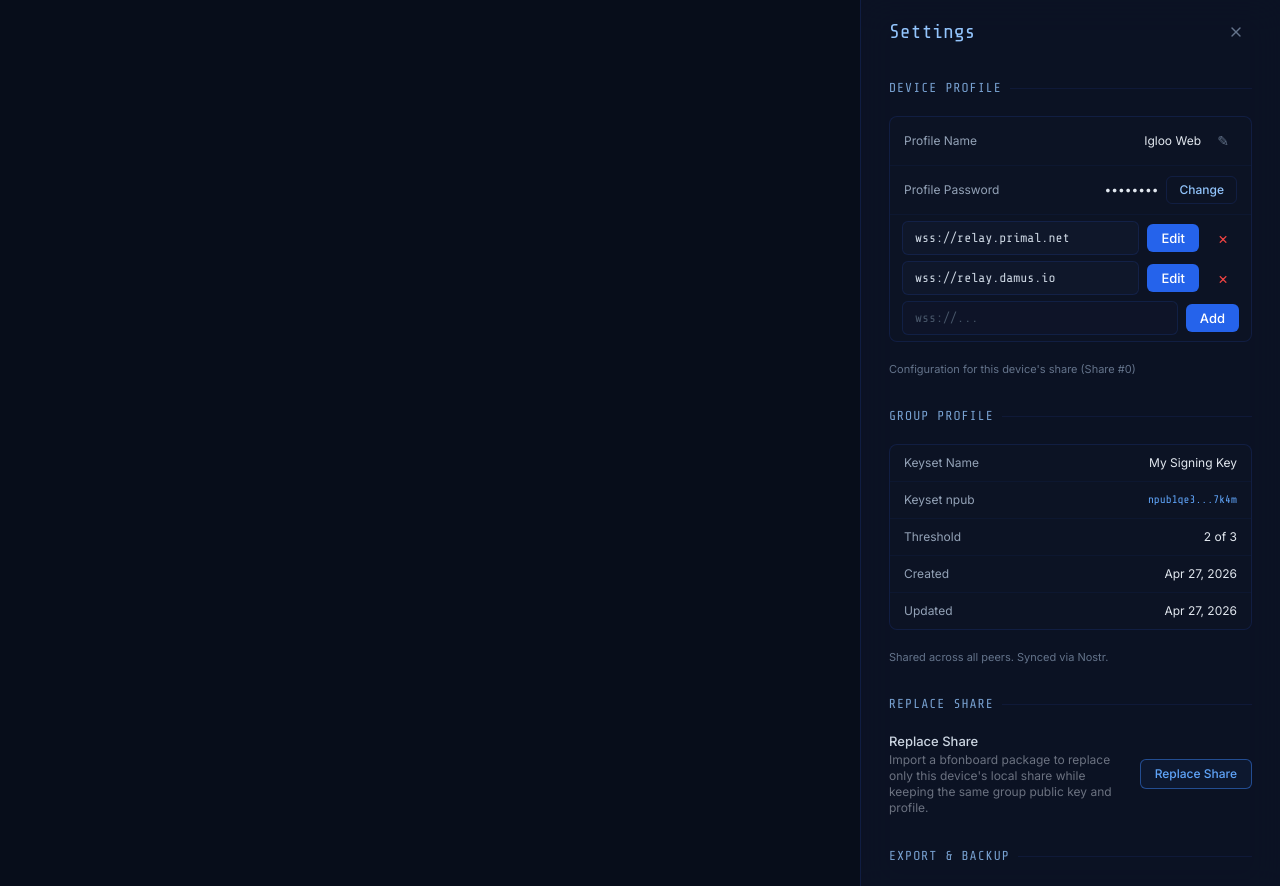
it: SettingsSidebar — Relay List (VAL-SETTINGS-003..006, 023) › Edit rejects an invalid URL with the canonical inline error (VAL-SETTINGS-004)
This screenshot has width=1280, height=886.
Click the button with aria-label "Edit wss://relay.damus.io" at (1173, 278), box [1147,264,1199,292]
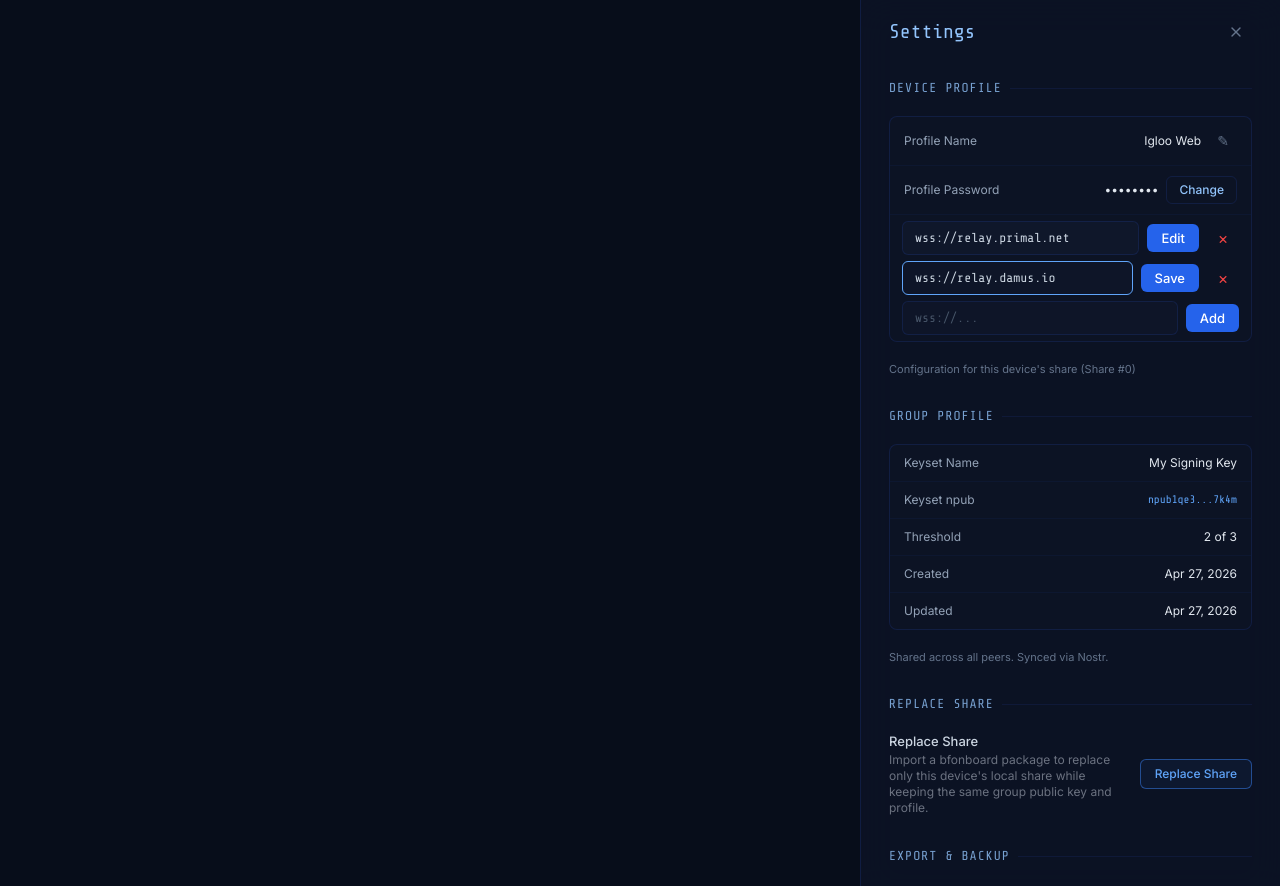
Replace the text in the field named "Edit wss://relay.damus.io" with "ws://no.lol" at (1017, 278), box [902,261,1133,295]
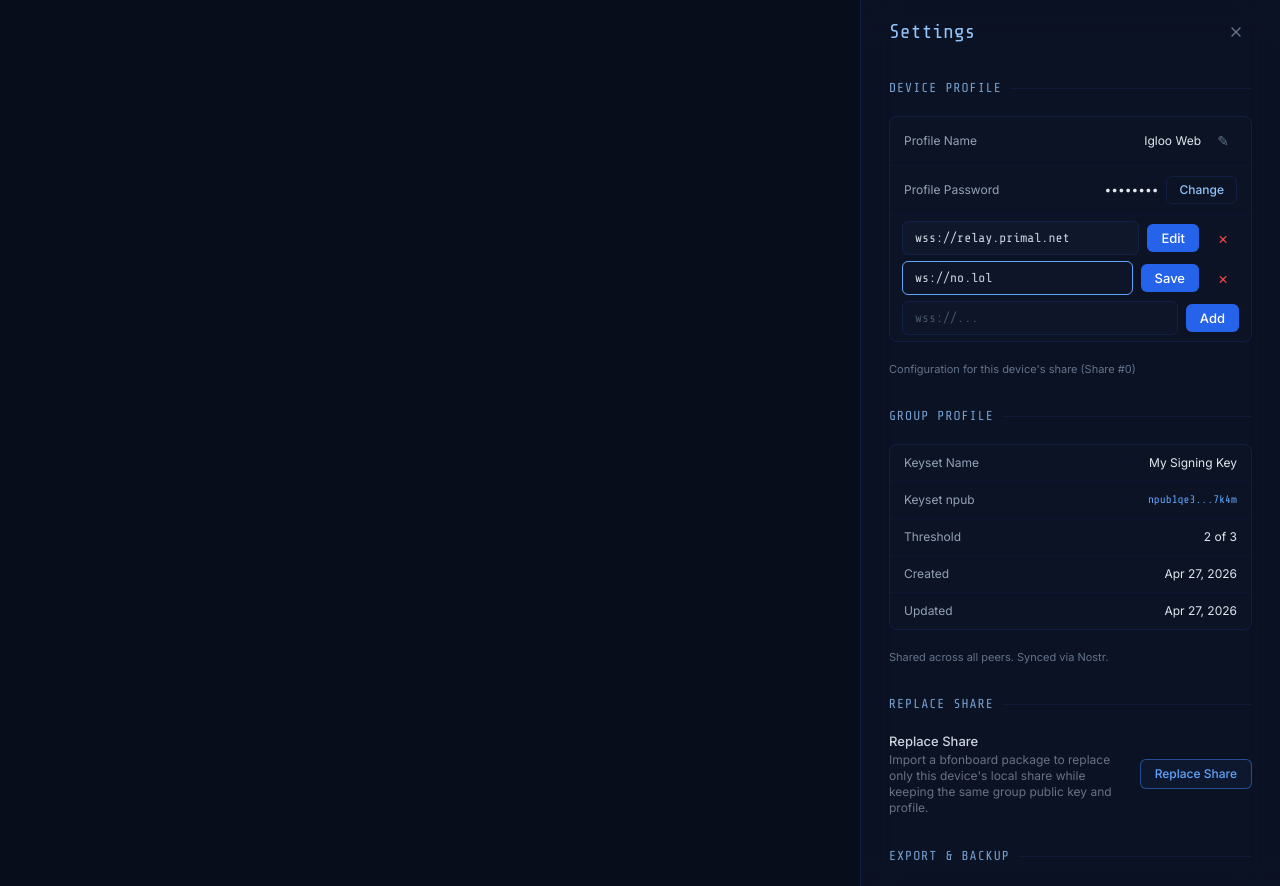
Click the button with aria-label "Save wss://relay.damus.io" at (1170, 278), box [1141,264,1199,292]
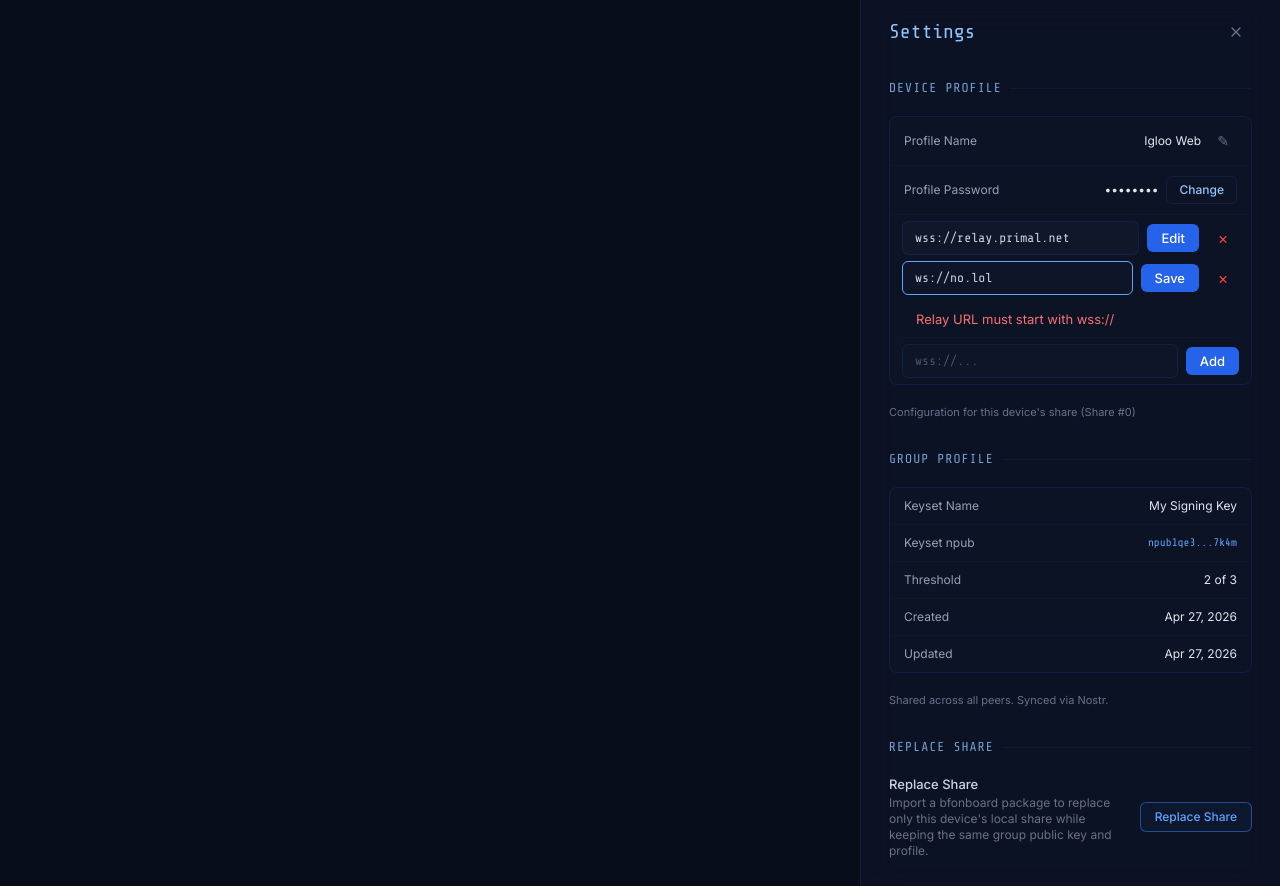
Now the message with test id "settings-relay-edit-error" reads "Relay URL must start with wss://", box [916,311,1114,327]
